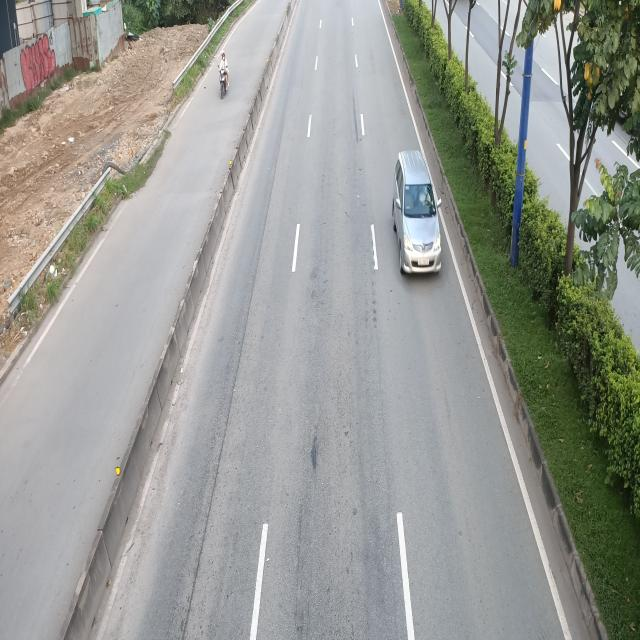car: (394, 150, 443, 278)
